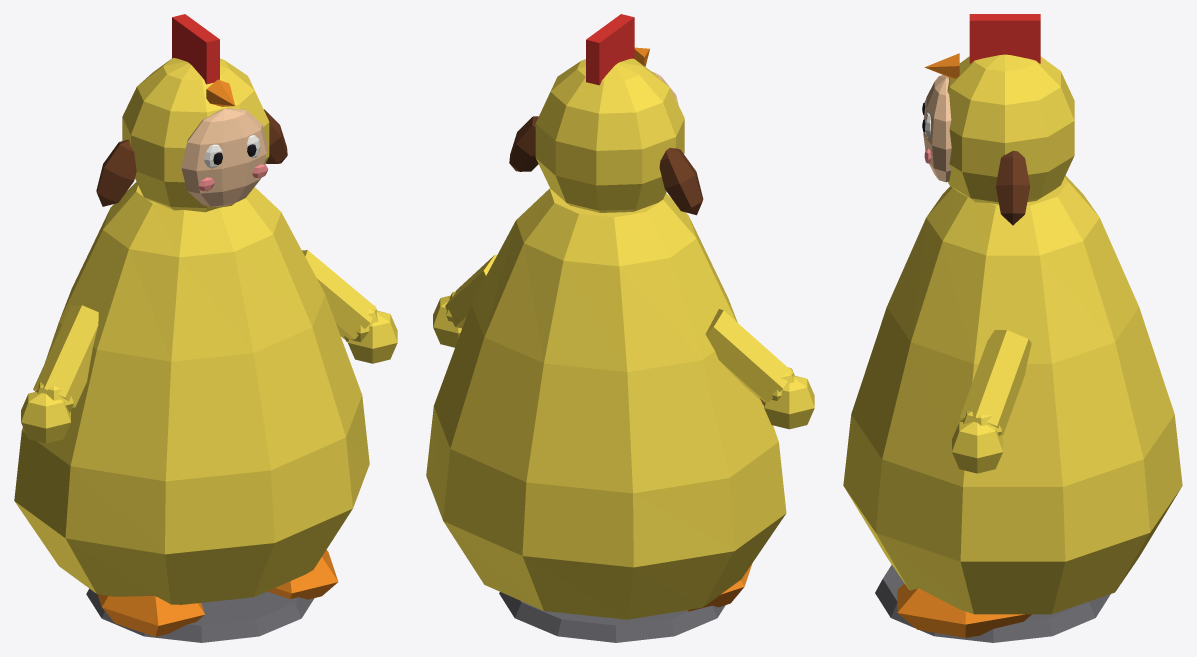
The model's file is npc_mimi.glb.
3 views of the same model, side by side, from view 1: azimuth 30°, elevation 25°; view 2: azimuth 150°, elevation 25°; view 3: azimuth 270°, elevation 25° (orthographic). The views are drawn at different scales.
Visible parts, largest first — view 1: body_chicken_yellow, head_chicken_yellow, arms_chicken_yellow, face_skin_mimi, stand_mannequin_stand, legs_chicken_feet, hair_mimi_hair, crest_chicken_crest, beak_chicken_feet; view 2: body_chicken_yellow, head_chicken_yellow, arms_chicken_yellow, stand_mannequin_stand, hair_mimi_hair, crest_chicken_crest, legs_chicken_feet; view 3: body_chicken_yellow, head_chicken_yellow, arms_chicken_yellow, stand_mannequin_stand, legs_chicken_feet, crest_chicken_crest, face_skin_mimi, hair_mimi_hair, beak_chicken_feet.
Part boxes in pixels (x1=…): body_chicken_yellow: x1=14, y1=182, x2=369, y2=604; head_chicken_yellow: x1=122, y1=58, x2=269, y2=212; arms_chicken_yellow: x1=21, y1=250, x2=397, y2=443; face_skin_mimi: x1=181, y1=108, x2=267, y2=206; stand_mannequin_stand: x1=86, y1=588, x2=314, y2=642; legs_chicken_feet: x1=97, y1=550, x2=338, y2=636; hair_mimi_hair: x1=96, y1=109, x2=287, y2=206; crest_chicken_crest: x1=172, y1=14, x2=219, y2=84; beak_chicken_feet: x1=206, y1=79, x2=235, y2=106; body_chicken_yellow: x1=426, y1=188, x2=786, y2=619; head_chicken_yellow: x1=535, y1=58, x2=684, y2=212; arms_chicken_yellow: x1=433, y1=254, x2=814, y2=429; stand_mannequin_stand: x1=499, y1=592, x2=725, y2=642; hair_mimi_hair: x1=509, y1=116, x2=703, y2=215; crest_chicken_crest: x1=586, y1=14, x2=634, y2=85; legs_chicken_feet: x1=685, y1=563, x2=752, y2=611; body_chicken_yellow: x1=843, y1=175, x2=1182, y2=614; head_chicken_yellow: x1=947, y1=54, x2=1074, y2=204; arms_chicken_yellow: x1=952, y1=330, x2=1031, y2=473; stand_mannequin_stand: x1=875, y1=565, x2=1110, y2=642; legs_chicken_feet: x1=897, y1=583, x2=1031, y2=637; crest_chicken_crest: x1=969, y1=14, x2=1040, y2=63; face_skin_mimi: x1=923, y1=75, x2=951, y2=182; hair_mimi_hair: x1=996, y1=150, x2=1029, y2=225; beak_chicken_feet: x1=924, y1=53, x2=959, y2=78.
Bounding box in the file's own units: 1.13 × 1.62 × 0.86.
